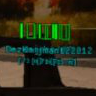hacks_1: (20, 22, 36, 39), (60, 22, 72, 41), (37, 22, 47, 40), (48, 22, 58, 40)
